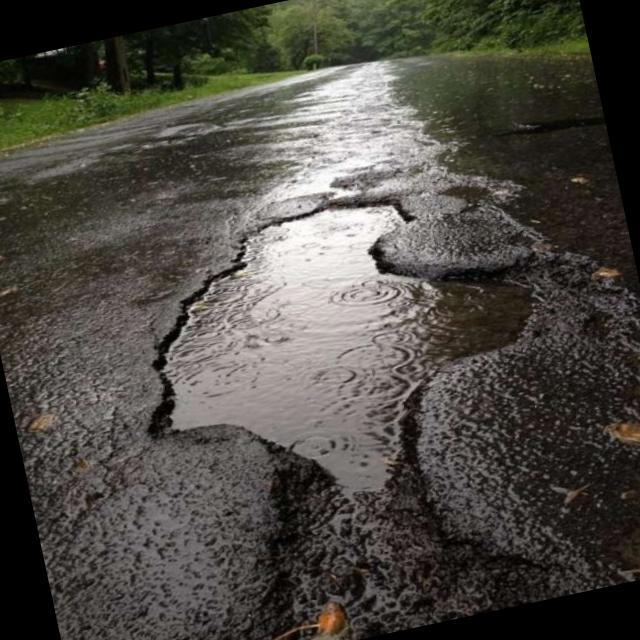Potholes: (99, 146, 619, 640)
